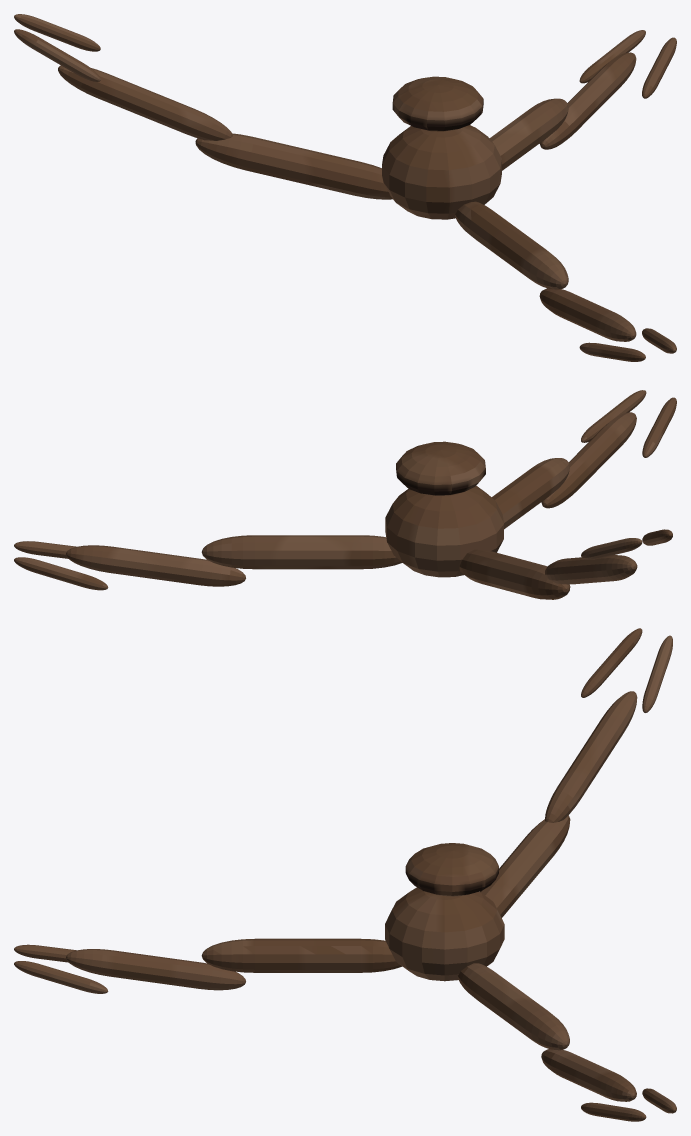
Rendered from sapscrap_body.obj.
3 views of the same model, one above another, from view 1: azimuth 30°, elevation 25°; view 2: azimuth 150°, elevation 25°; view 3: azimuth 270°, elevation 25° (orthographic).
Bounding box in the file's own units: 1.99 × 0.5908 × 1.75.
Materials: 1 (1 with a texture image).
